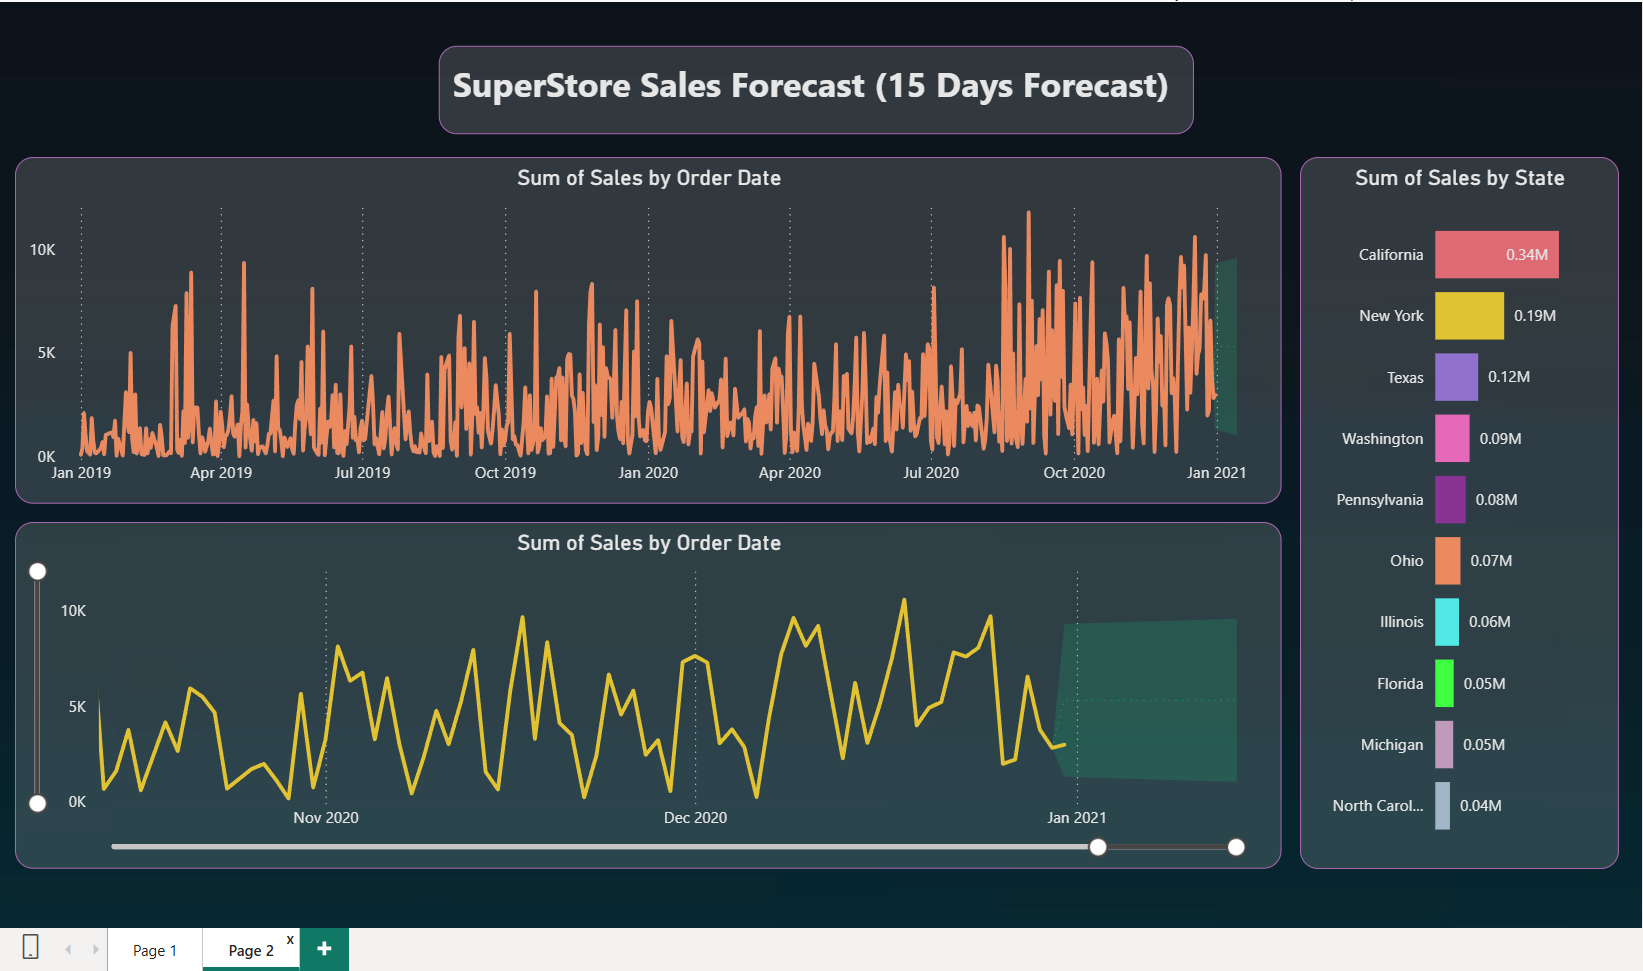

The dashboard page shown, as its layout file describes it:
{"tool":"powerbi","page":{"name":"Page 2","canvas":[1280,720],"ordinal":1},"visuals":[{"type":"lineChart","fields":{"Y":["Sum(SuperStore_Sales_Dataset.Sales)"],"Category":["SuperStore_Sales_Dataset.Order Date"]},"box":[15.1,120.9,984.9,269.8],"z":0},{"type":"lineChart","fields":{"Y":["Sum(SuperStore_Sales_Dataset.Sales)"],"Category":["SuperStore_Sales_Dataset.Order Date"]},"box":[15.1,404.7,984.9,269.8],"z":1000},{"type":"clusteredBarChart","fields":{"Category":["SuperStore_Sales_Dataset.State"],"Y":["Sum(SuperStore_Sales_Dataset.Sales)"]},"box":[1015.1,120.9,247.7,553.5],"z":2000},{"type":"textbox","box":[345.3,33.7,587.2,68.6],"z":3000}]}

Visuals, with their boxes on the page's 1280x720 design canvas (x1, y1, x2, y2). These are canvas units, not pixel positions in the 1643x971 screenshot, which may show the page scaled, cropped or inside an application window:
lineChart - Sum(SuperStore_Sales_Dataset.Sales) x SuperStore_Sales_Dataset.Order Date: rect(15, 121, 1000, 391)
lineChart - Sum(SuperStore_Sales_Dataset.Sales) x SuperStore_Sales_Dataset.Order Date: rect(15, 405, 1000, 674)
clusteredBarChart - SuperStore_Sales_Dataset.State x Sum(SuperStore_Sales_Dataset.Sales): rect(1015, 121, 1263, 674)
textbox: rect(345, 34, 932, 102)
